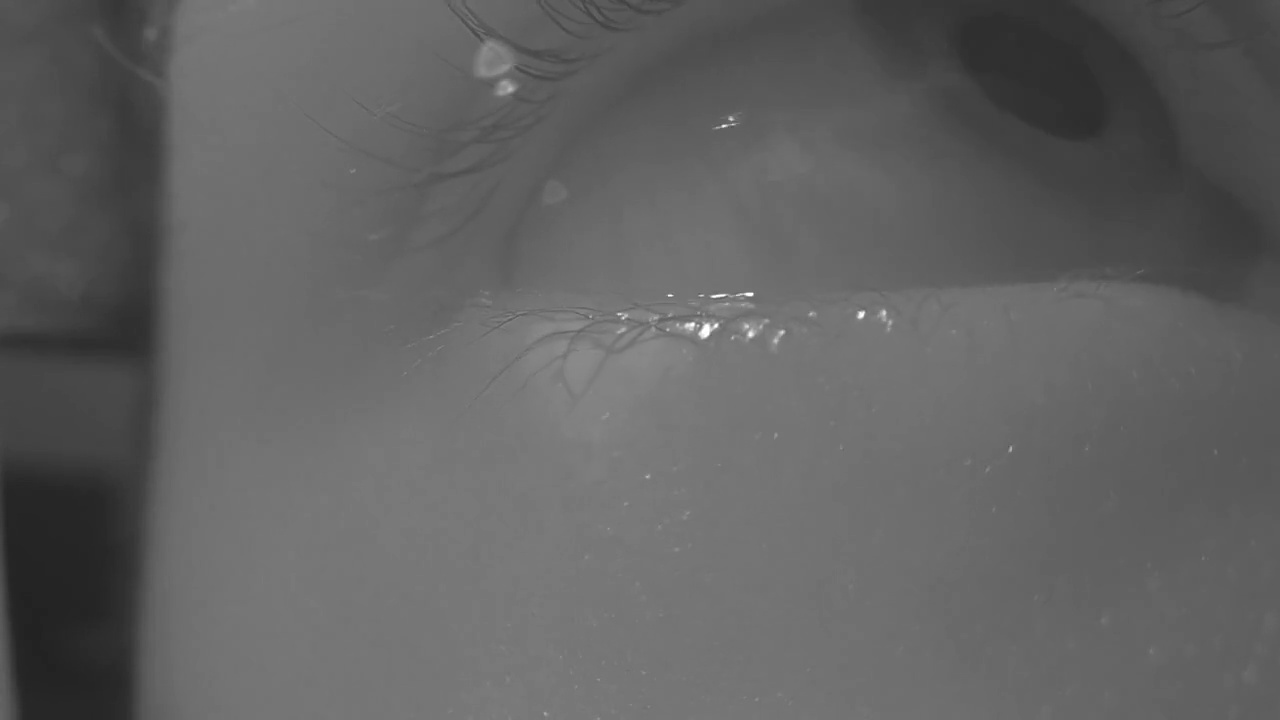pupil: (958, 12, 1104, 142)
